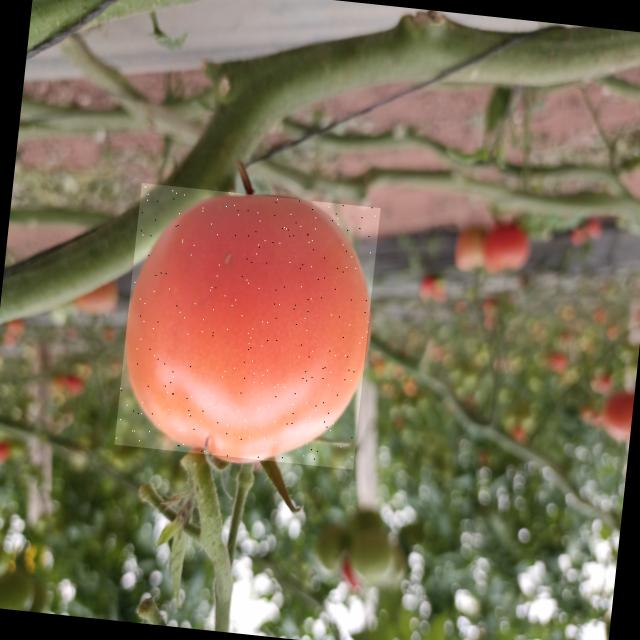Ripe Tomato: (114, 182, 380, 470)
